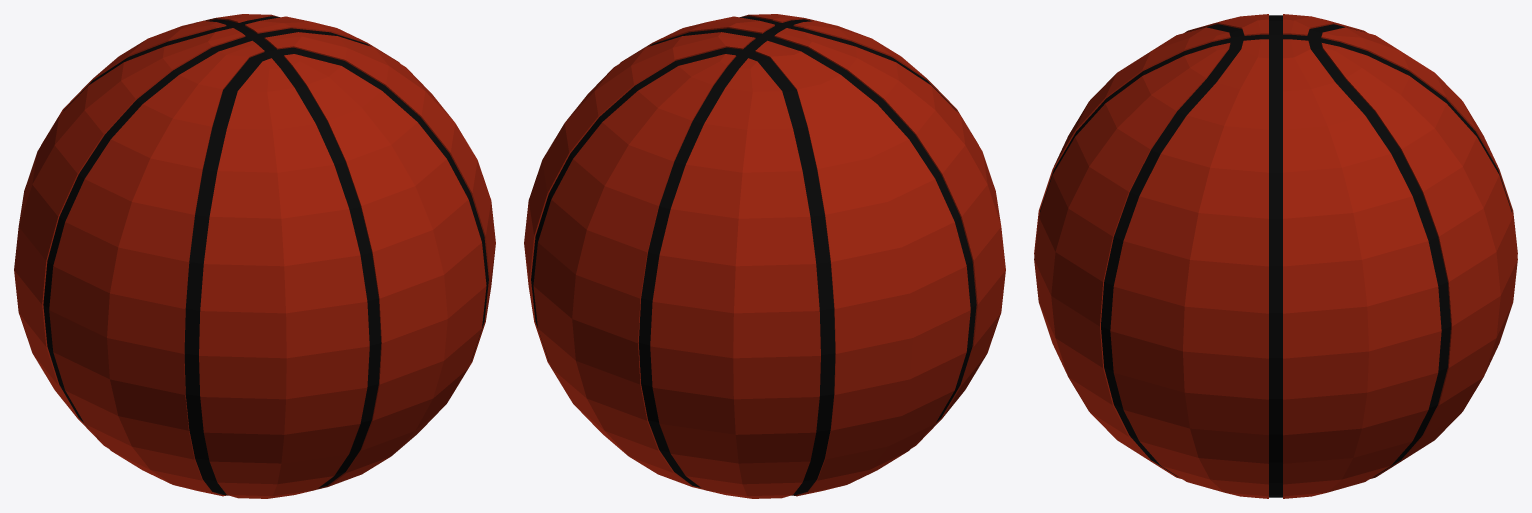
The model's file is basketball_OBJ.obj.
The picture shows the model from 3 angles, left to right: view 1: azimuth 30°, elevation 25°; view 2: azimuth 150°, elevation 25°; view 3: azimuth 270°, elevation 25°; orthographic projection.
Visible parts, largest first — view 1: BasketballBall; view 2: BasketballBall; view 3: BasketballBall.
Boxes of the visible parts, box(x1,y1,x2,y2) form: BasketballBall: box(14, 14, 495, 498); BasketballBall: box(524, 14, 1005, 498); BasketballBall: box(1034, 14, 1517, 498).
Bounding box in the file's own units: 0.7499 × 0.7527 × 0.7499.
